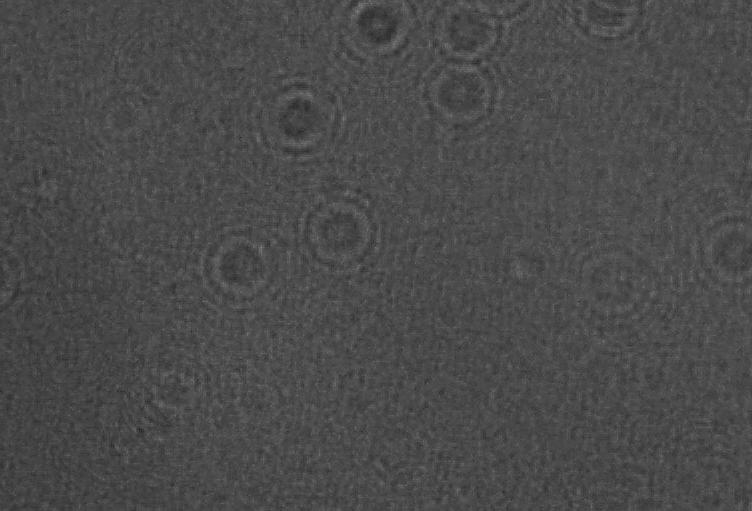bead: (288, 181, 392, 292), (250, 71, 348, 166), (188, 221, 288, 312), (323, 0, 425, 71), (418, 0, 520, 68), (418, 58, 511, 131), (685, 207, 752, 287), (563, 0, 657, 57), (0, 233, 31, 325)
